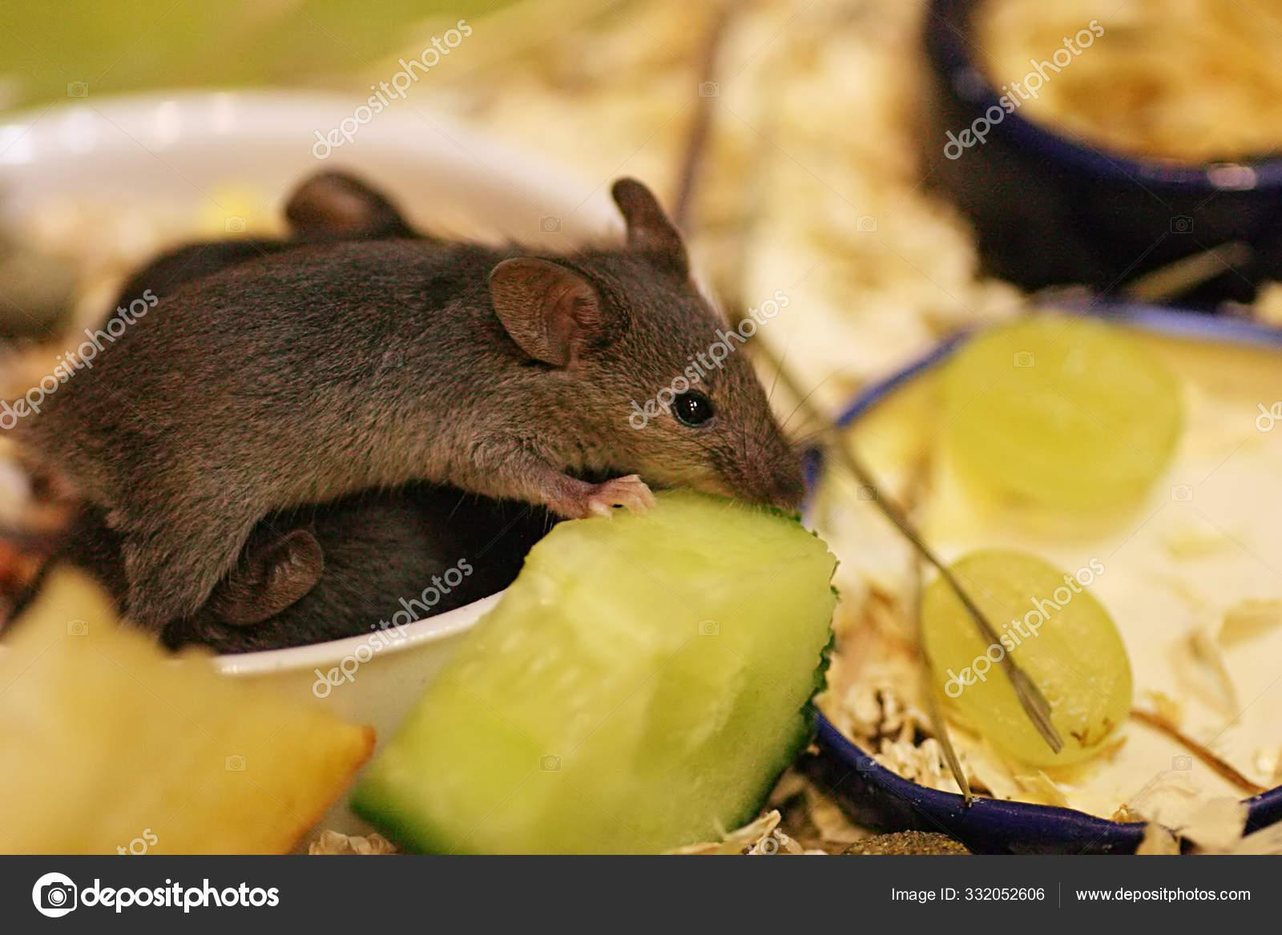rat: (14, 175, 809, 631)
